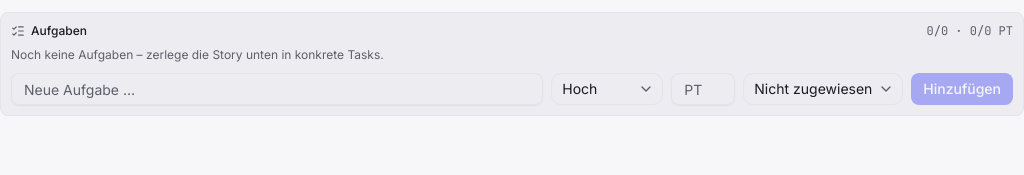
Test case: StoryTasks › adds a board task with the story link and shows it in the roll-up
Type "Login-Formular" into the field named "Aufgabentitel" at [277, 89], box left=11, top=73, right=543, bottom=105
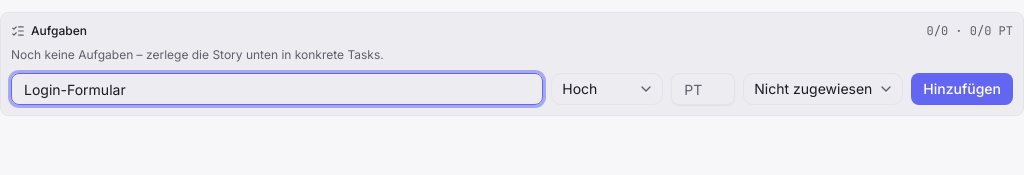
Type "2" into the number field named "Personentage" at [703, 89], box left=671, top=73, right=735, bottom=105
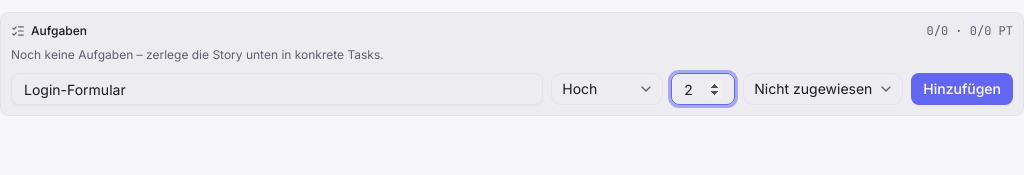
Click the button "Hinzufügen" at [962, 89], box left=911, top=73, right=1013, bottom=105
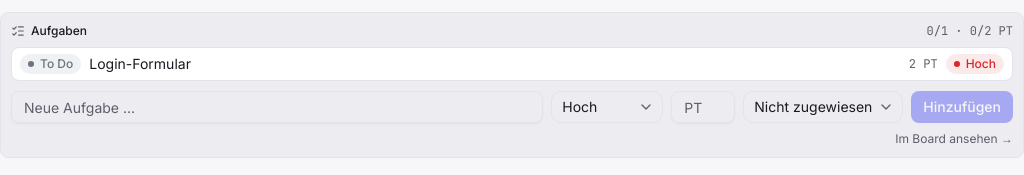
Expected: the text "0/1 · 0/2 PT" is shown, left=927, top=23, right=1013, bottom=39
Expected: the text "Login-Formular" is shown, left=89, top=55, right=191, bottom=72
